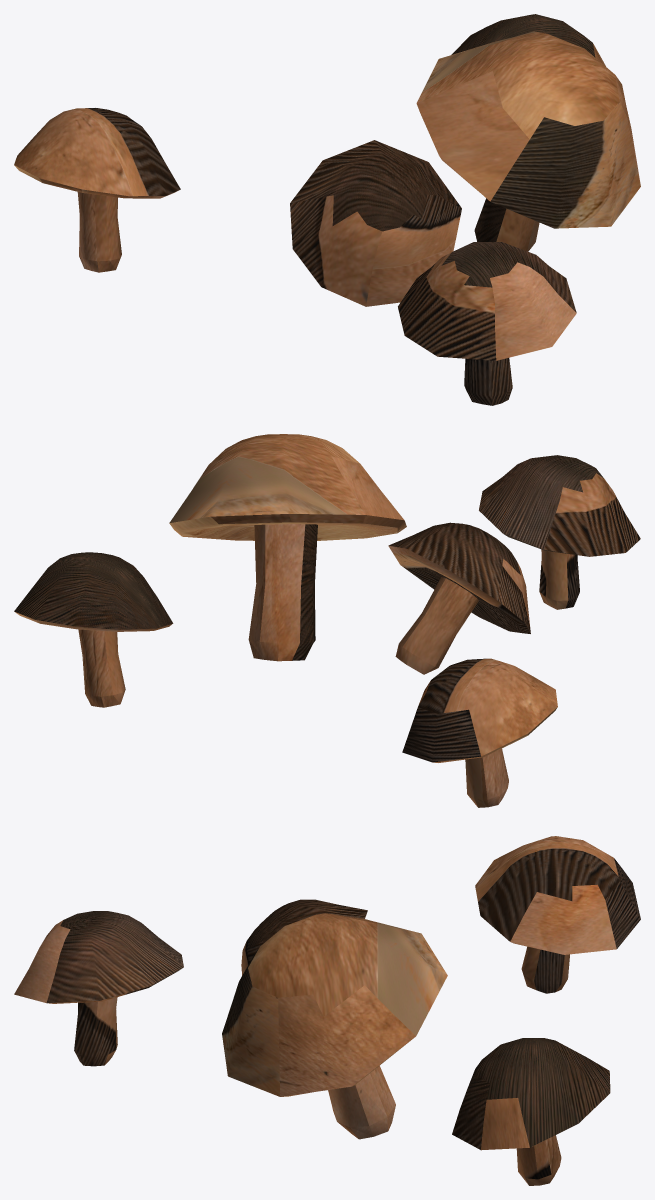
Rendered from MushroomBrownSmall_LOD0.dae.
3 renders of one model, top to bottom at view 1: azimuth 30°, elevation 25°; view 2: azimuth 150°, elevation 25°; view 3: azimuth 270°, elevation 25°, orthographic. The views are drawn at different scales.
Visible parts, largest first — view 1: MushroomBrownSmall_LOD0; view 2: MushroomBrownSmall_LOD0; view 3: MushroomBrownSmall_LOD0.
Part boxes in pixels (x1=…): MushroomBrownSmall_LOD0: x1=14, y1=14, x2=640, y2=405; MushroomBrownSmall_LOD0: x1=14, y1=434, x2=640, y2=807; MushroomBrownSmall_LOD0: x1=14, y1=836, x2=640, y2=1185.
Size of the model in its own units: 0.271 by 0.1031 by 0.2671.
